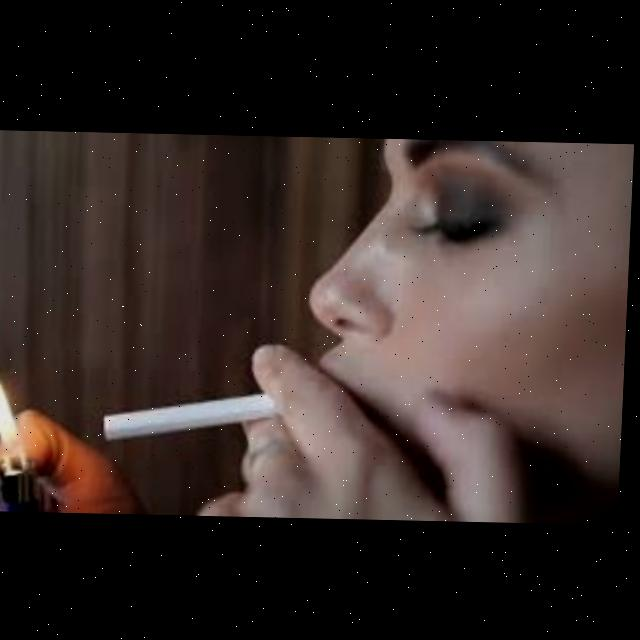cigarette: (108, 388, 288, 442)
